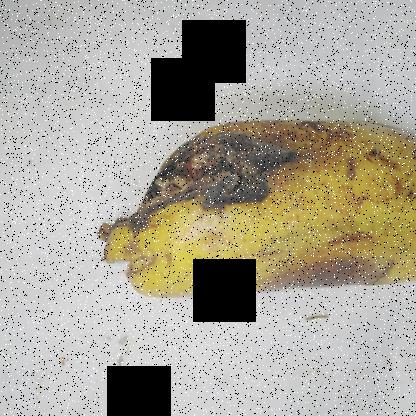ripe: (299, 105, 415, 301)
rotten: (98, 110, 309, 300), (263, 243, 398, 345)
